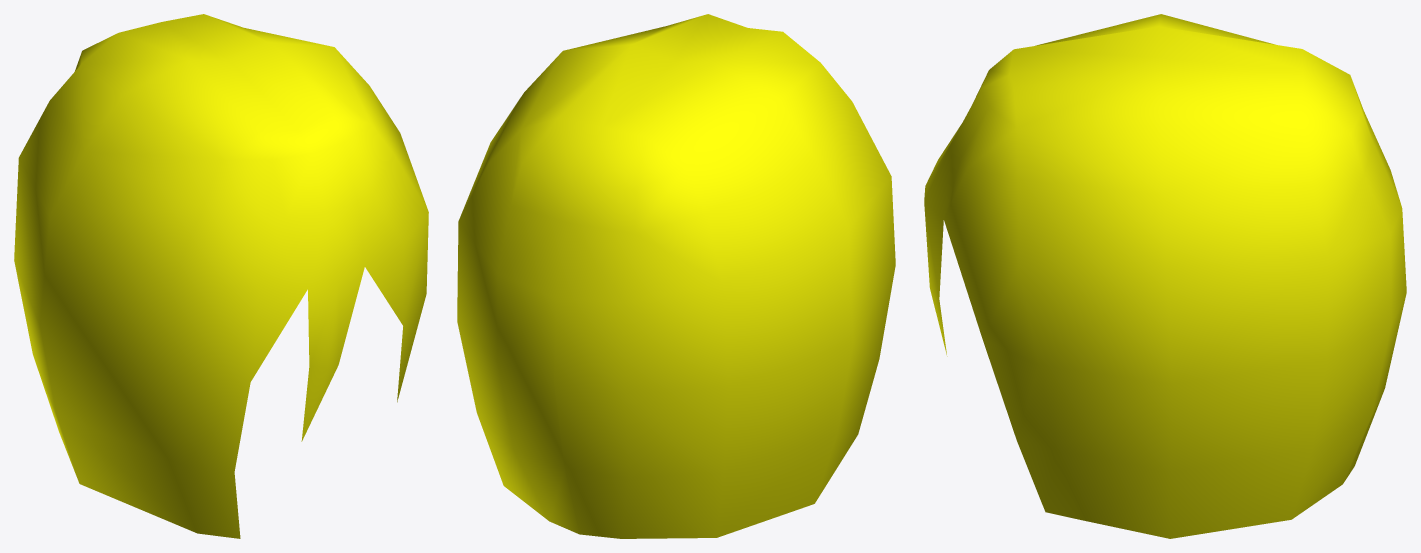
Rendered from hair_F19.glb.
3 views of the same model, side by side, from view 1: azimuth 30°, elevation 25°; view 2: azimuth 150°, elevation 25°; view 3: azimuth 270°, elevation 25° (orthographic). The views are drawn at different scales.
Parts seen in each view (by area): view 1: NewMikasa2; view 2: NewMikasa2; view 3: NewMikasa2.
Part boxes in pixels (x1,y1,x2,y2): NewMikasa2: [14, 14, 428, 538]; NewMikasa2: [457, 14, 895, 538]; NewMikasa2: [924, 14, 1406, 538].
Bounding box in the file's own units: 0.6107 × 0.6505 × 0.6762.
1 material, 1 textured.
